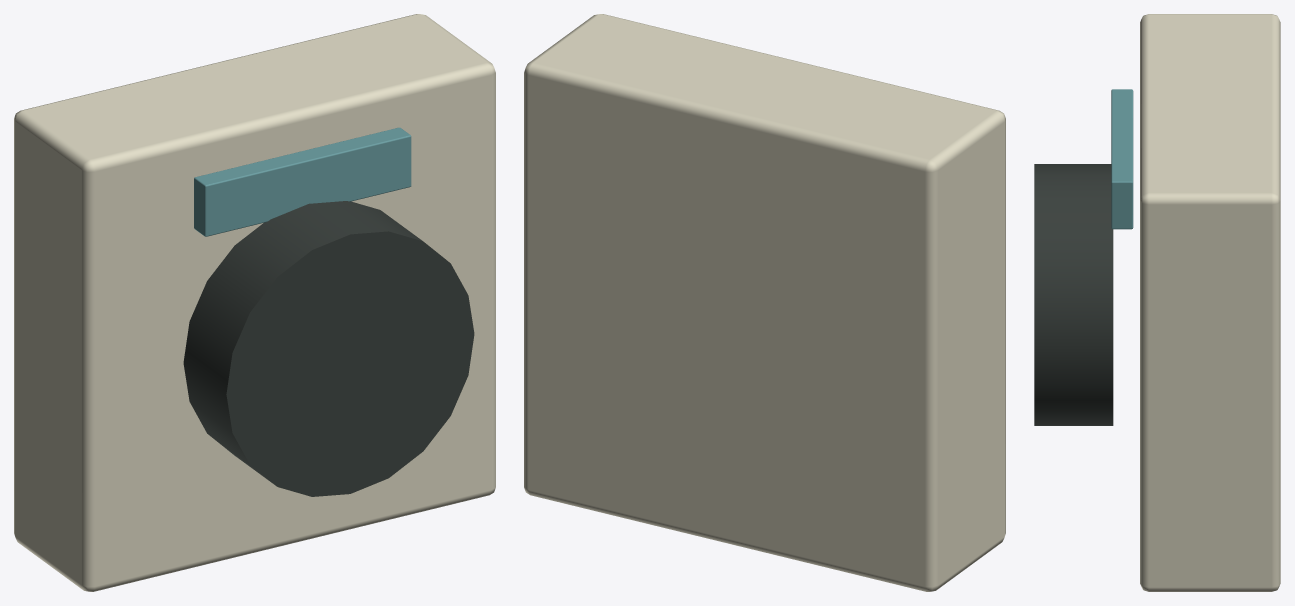
The model's file is off-grid-power-and-controls-thermostat-control-87186a34__3025.glb.
3 renders of one model, left to right at view 1: azimuth 30°, elevation 25°; view 2: azimuth 150°, elevation 25°; view 3: azimuth 270°, elevation 25°, orthographic. The views are drawn at different scales.
Parts seen in each view (by area): view 1: thermostat-control; view 2: thermostat-control; view 3: thermostat-control.
Part boxes in pixels (bbox=[...]): thermostat-control: bbox=[14, 14, 495, 591]; thermostat-control: bbox=[524, 14, 1005, 591]; thermostat-control: bbox=[1034, 14, 1280, 591].
Bounding box in the file's own units: 0.1 × 0.1 × 0.056.
